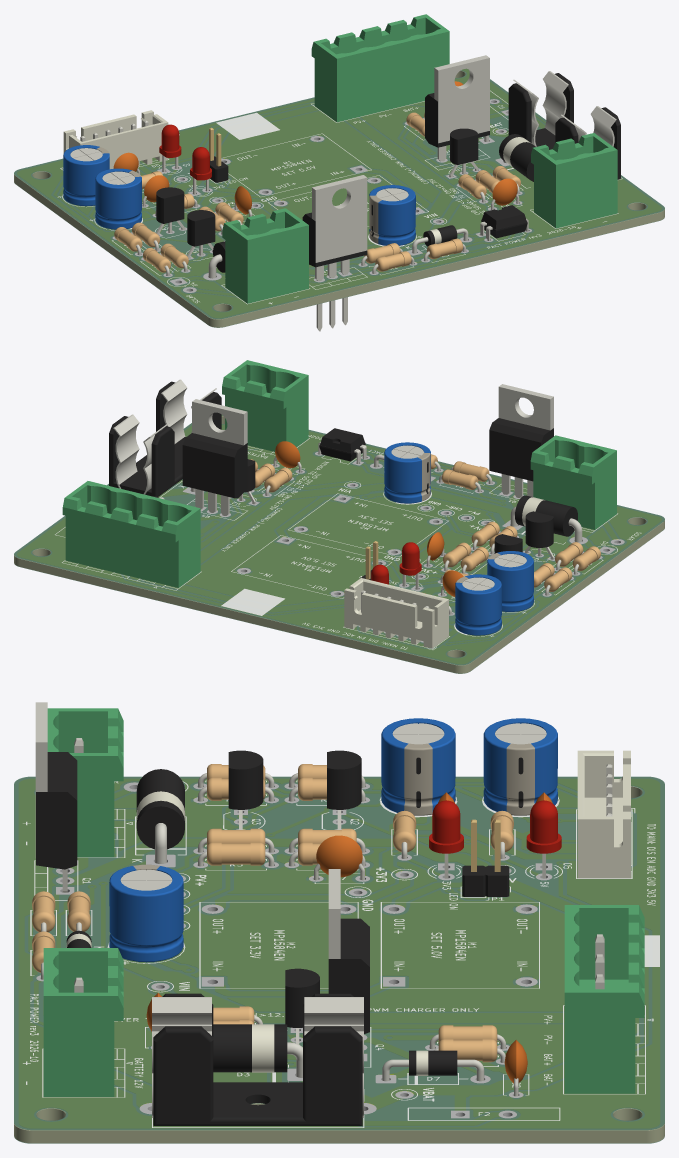
The picture shows the model from 3 angles, top to bottom: view 1: azimuth 30°, elevation 25°; view 2: azimuth 150°, elevation 25°; view 3: azimuth 270°, elevation 25°; orthographic projection. The views are drawn at different scales.
Visible parts, largest first — view 1: =>[0:1:1:34], =>[0:1:1:30], =>[0:1:1:13] (×2), =>[0:1:1:36], =>[0:1:1:3], =>[0:1:1:23] (×2), =>[0:1:1:11] (×3), =>[0:1:1:17], =>[0:1:1:33], =>[0:1:1:21], =>[0:1:1:15] (×3), =>[0:1:1:31] (+8 smaller); view 2: =>[0:1:1:34], =>[0:1:1:30], =>[0:1:1:13] (×2), =>[0:1:1:3], =>[0:1:1:23] (×2), =>[0:1:1:36], =>[0:1:1:11] (×3), =>[0:1:1:17], =>[0:1:1:21], =>[0:1:1:33], =>[0:1:1:31], =>[0:1:1:29] (+6 smaller); view 3: =>[0:1:1:34], =>[0:1:1:30], =>[0:1:1:36], =>[0:1:1:17], =>[0:1:1:11] (×3), =>[0:1:1:13] (×2), =>[0:1:1:3], =>[0:1:1:7] (×12), =>[0:1:1:33], =>[0:1:1:23] (×2), =>[0:1:1:29] (×2), =>[0:1:1:21] (+7 smaller).
Boxes of the visible parts, bbox=[...] form: =>[0:1:1:34]: bbox=[14, 68, 664, 319]; =>[0:1:1:30]: bbox=[17, 69, 661, 317]; =>[0:1:1:13] (×2): bbox=[222, 133, 617, 303]; =>[0:1:1:36]: bbox=[14, 70, 664, 327]; =>[0:1:1:3]: bbox=[311, 14, 449, 122]; =>[0:1:1:23] (×2): bbox=[302, 55, 489, 331]; =>[0:1:1:11] (×3): bbox=[63, 145, 415, 245]; =>[0:1:1:17]: bbox=[508, 71, 620, 179]; =>[0:1:1:33]: bbox=[57, 90, 622, 304]; =>[0:1:1:21]: bbox=[63, 110, 168, 169]; =>[0:1:1:15] (×3): bbox=[156, 128, 478, 258]; =>[0:1:1:31]: bbox=[112, 99, 531, 292]; =>[0:1:1:34]: bbox=[14, 415, 664, 665]; =>[0:1:1:30]: bbox=[17, 425, 661, 663]; =>[0:1:1:13] (×2): bbox=[222, 360, 616, 529]; =>[0:1:1:3]: bbox=[62, 481, 200, 587]; =>[0:1:1:23] (×2): bbox=[182, 384, 553, 515]; =>[0:1:1:36]: bbox=[14, 416, 664, 673]; =>[0:1:1:11] (×3): bbox=[384, 442, 533, 635]; =>[0:1:1:17]: bbox=[109, 379, 221, 496]; =>[0:1:1:21]: bbox=[344, 578, 448, 648]; =>[0:1:1:33]: bbox=[55, 435, 641, 649]; =>[0:1:1:31]: bbox=[183, 452, 624, 642]; =>[0:1:1:29]: bbox=[510, 495, 582, 542]; =>[0:1:1:34]: bbox=[14, 776, 664, 1130]; =>[0:1:1:30]: bbox=[19, 779, 659, 1127]; =>[0:1:1:36]: bbox=[14, 777, 664, 1143]; =>[0:1:1:17]: bbox=[152, 993, 363, 1125]; =>[0:1:1:11] (×3): bbox=[109, 718, 557, 962]; =>[0:1:1:13] (×2): bbox=[43, 708, 123, 1096]; =>[0:1:1:3]: bbox=[564, 905, 644, 1093]; =>[0:1:1:7] (×12): bbox=[32, 777, 513, 1062]; =>[0:1:1:33]: bbox=[23, 780, 659, 1127]; =>[0:1:1:23] (×2): bbox=[35, 702, 369, 1033]; =>[0:1:1:29] (×2): bbox=[136, 769, 302, 1077]; =>[0:1:1:21]: bbox=[577, 750, 630, 878].
Bounding box in the file's own units: 0.09 × 0.0285 × 0.07.
